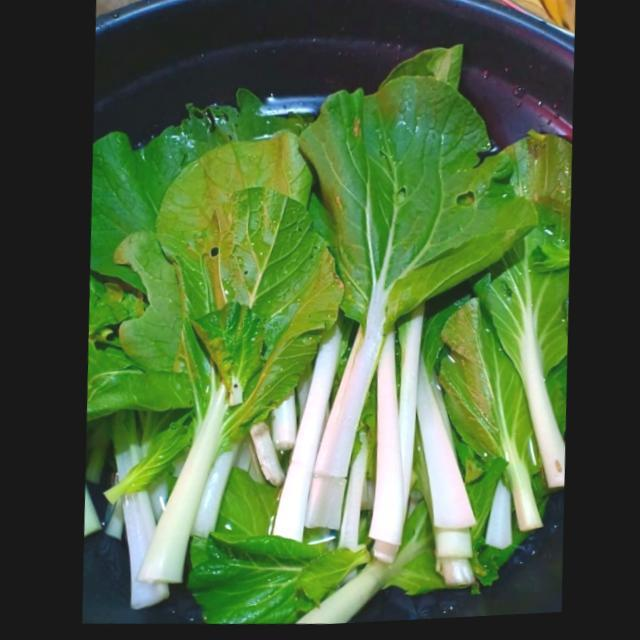biowaste: (298, 88, 538, 535), (134, 190, 334, 587), (86, 91, 298, 384), (421, 281, 548, 592), (473, 140, 572, 538), (180, 469, 373, 627), (363, 318, 472, 593), (83, 411, 193, 611), (157, 134, 332, 248), (248, 334, 339, 544), (378, 485, 443, 602), (293, 568, 392, 627), (380, 50, 465, 109)
